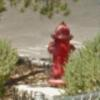a fire hydrant: (48, 22, 76, 88)
